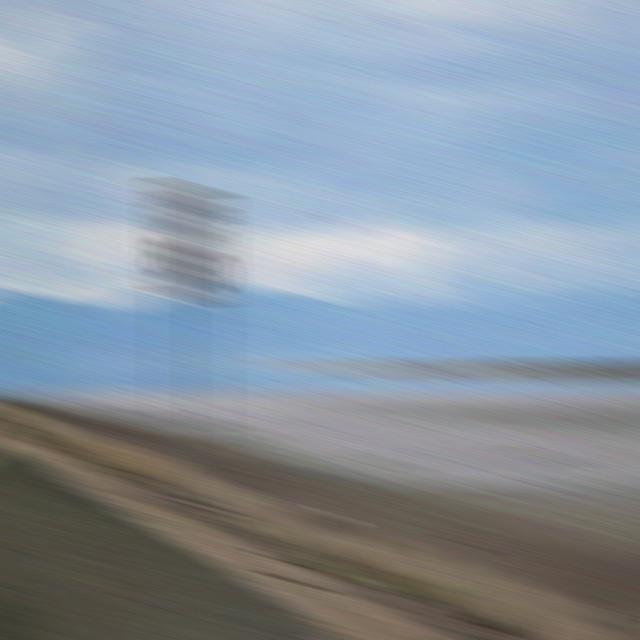speedLimit80: (152, 178, 227, 300)
